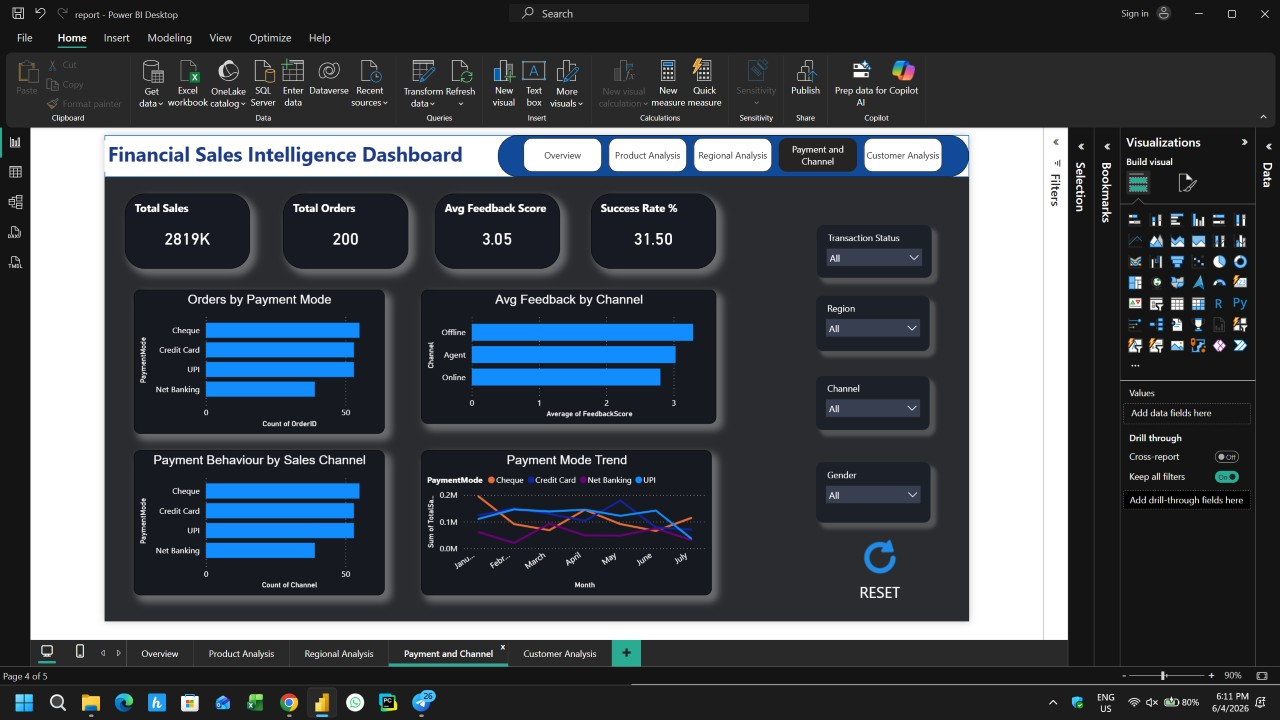

The dashboard page shown, as its layout file describes it:
{"tool":"powerbi","page":{"name":"Payment and Channel","canvas":[1280,720],"ordinal":3},"visuals":[{"type":"slicer","fields":{"Values":["Reliance_Finance_Sales_Dataset.TransactionStatus"]},"box":[1054.1,133.3,170,77.8],"z":2000},{"type":"actionButton","box":[1012.2,586.7,174.4,101.1],"z":4000},{"type":"card","title":"Total Sales","fields":{"Values":["Sum(Reliance_Finance_Sales_Dataset.TotalSales)"]},"box":[30,86.7,185.6,111.1],"z":5000},{"type":"card","title":"Total Orders","fields":{"Values":["CountNonNull(Reliance_Finance_Sales_Dataset.OrderID)"]},"box":[264.4,86.7,185.6,111.1],"z":6000},{"type":"slicer","fields":{"Values":["Reliance_Finance_Sales_Dataset.Gender"]},"box":[1053.3,485,169,89.5],"z":7000},{"type":"card","title":"Avg Feedback Score","fields":{"Values":["Avg(Reliance_Finance_Sales_Dataset.FeedbackScore)"]},"box":[488.9,86.7,185.6,111.1],"z":8000},{"type":"slicer","fields":{"Values":["Reliance_Finance_Sales_Dataset.Channel"]},"box":[1053.3,356.5,168,80],"z":9000},{"type":"card","title":"Success Rate %","fields":{"Values":["_Measures.Success Rate %"]},"box":[720,86.7,185.6,111.1],"z":10000},{"type":"slicer","fields":{"Values":["Reliance_Finance_Sales_Dataset.Region"]},"box":[1053.3,237.5,168,82.1],"z":11000},{"type":"clusteredBarChart","title":"Orders by Payment Mode","fields":{"Category":["Reliance_Finance_Sales_Dataset.PaymentMode"],"Y":["CountNonNull(Reliance_Finance_Sales_Dataset.OrderID)"]},"box":[43.3,228.9,371.1,213.3],"z":12000},{"type":"clusteredBarChart","title":"Avg Feedback by Channel","fields":{"Category":["Reliance_Finance_Sales_Dataset.Channel"],"Y":["Avg(Reliance_Finance_Sales_Dataset.FeedbackScore)"]},"box":[468.9,228.9,436.7,198.9],"z":14000},{"type":"lineChart","title":"Payment Mode Trend","fields":{"Category":["Reliance_Finance_Sales_Dataset.OrderDate.Variation.Date Hierarchy.Month"],"Y":["Sum(Reliance_Finance_Sales_Dataset.TotalSales)"],"Series":["Reliance_Finance_Sales_Dataset.PaymentMode"]},"box":[468.9,466.7,430,214.4],"z":15000},{"type":"barChart","title":"Payment Behaviour by Sales Channel","fields":{"Category":["Reliance_Finance_Sales_Dataset.PaymentMode"],"Y":["CountNonNull(Reliance_Finance_Sales_Dataset.Channel)"]},"box":[43.3,466.7,371.1,214.4],"z":16000},{"type":"shape","box":[0,0,1280,62.1],"z":16001},{"type":"shape","box":[582.6,0,697.4,62.1],"z":16002},{"type":"textbox","title":"Financial Sales Intelligence Dashboard","box":[0,8.2,555.6,46.9],"z":16003},{"type":"pageNavigator","box":[620.1,4.7,622.4,50.4],"z":16004}]}

Visuals, with their boxes on the page's 1280x720 design canvas (x1, y1, x2, y2). These are canvas units, not pixel positions in the 1280x720 screenshot, which may show the page scaled, cropped or inside an application window:
slicer - Reliance_Finance_Sales_Dataset.TransactionStatus: Rect(1054, 133, 1224, 211)
actionButton: Rect(1012, 587, 1187, 688)
"Total Sales" card: Rect(30, 87, 216, 198)
"Total Orders" card: Rect(264, 87, 450, 198)
slicer - Reliance_Finance_Sales_Dataset.Gender: Rect(1053, 485, 1222, 574)
"Avg Feedback Score" card: Rect(489, 87, 674, 198)
slicer - Reliance_Finance_Sales_Dataset.Channel: Rect(1053, 356, 1221, 436)
"Success Rate %" card: Rect(720, 87, 906, 198)
slicer - Reliance_Finance_Sales_Dataset.Region: Rect(1053, 238, 1221, 320)
"Orders by Payment Mode" clusteredBarChart: Rect(43, 229, 414, 442)
"Avg Feedback by Channel" clusteredBarChart: Rect(469, 229, 906, 428)
"Payment Mode Trend" lineChart: Rect(469, 467, 899, 681)
"Payment Behaviour by Sales Channel" barChart: Rect(43, 467, 414, 681)
shape: Rect(0, 0, 1280, 62)
shape: Rect(583, 0, 1280, 62)
"Financial Sales Intelligence Dashboard" textbox: Rect(0, 8, 556, 55)
pageNavigator: Rect(620, 5, 1242, 55)
